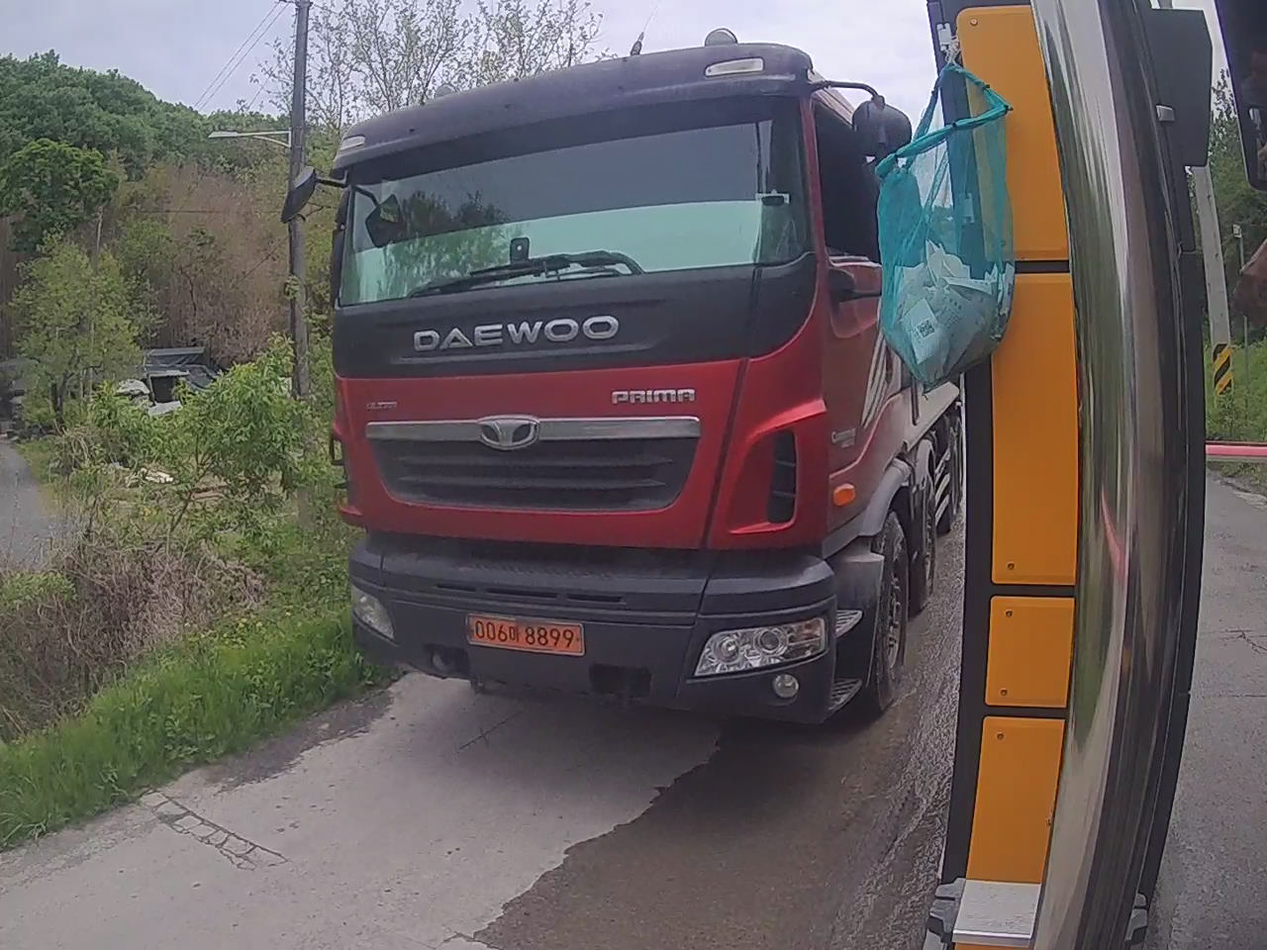license_plate: (468, 616, 584, 655)
truck: (282, 33, 963, 722)
